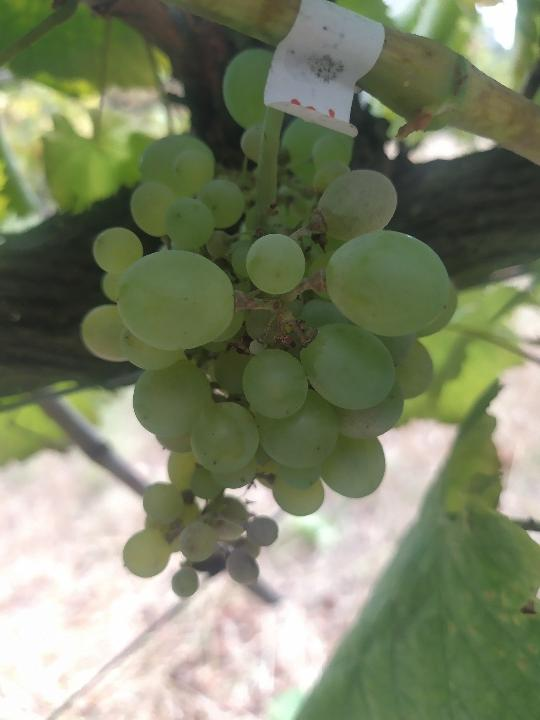grape: (76, 44, 461, 602)
